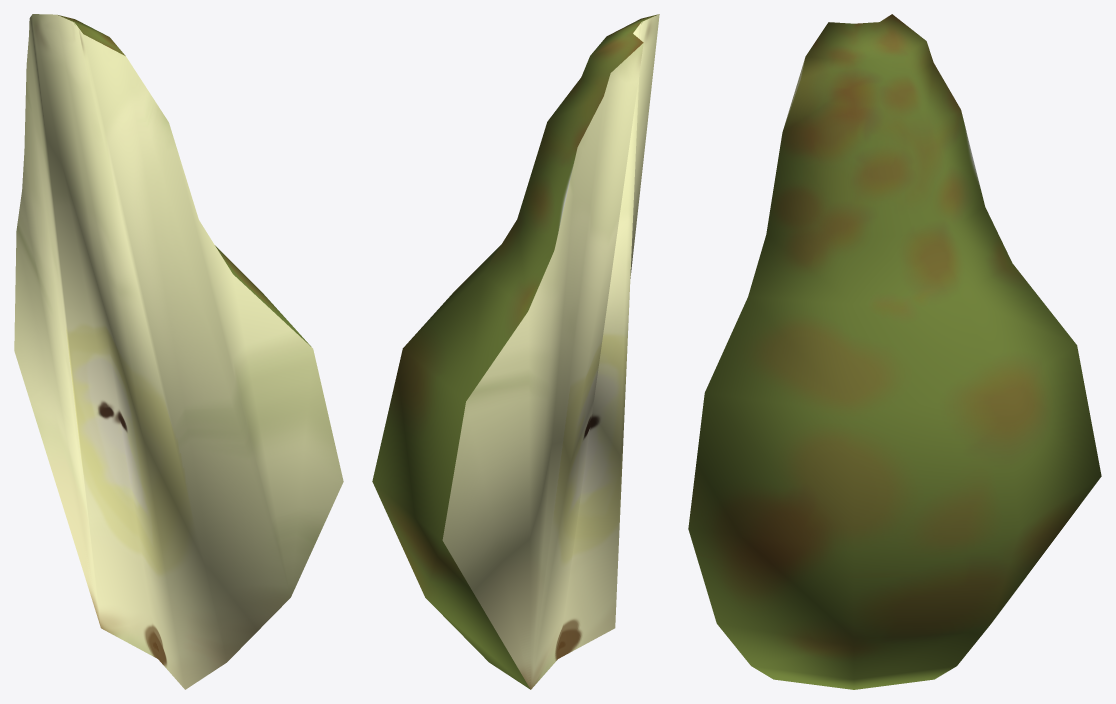
File: Päärynä 4viipale valmis kai.fbx
3 views of the same model, side by side, from view 1: azimuth 30°, elevation 25°; view 2: azimuth 150°, elevation 25°; view 3: azimuth 270°, elevation 25° (orthographic). The views are drawn at different scales.
Visible parts, largest first — view 1: Cube; view 2: Cube; view 3: Cube.
Boxes of the visible parts, x1,y1,x2,y2 form: Cube: (14,14,343,689); Cube: (372,14,659,689); Cube: (688,14,1101,689).
Bounding box in the file's own units: 162 × 434 × 259.
